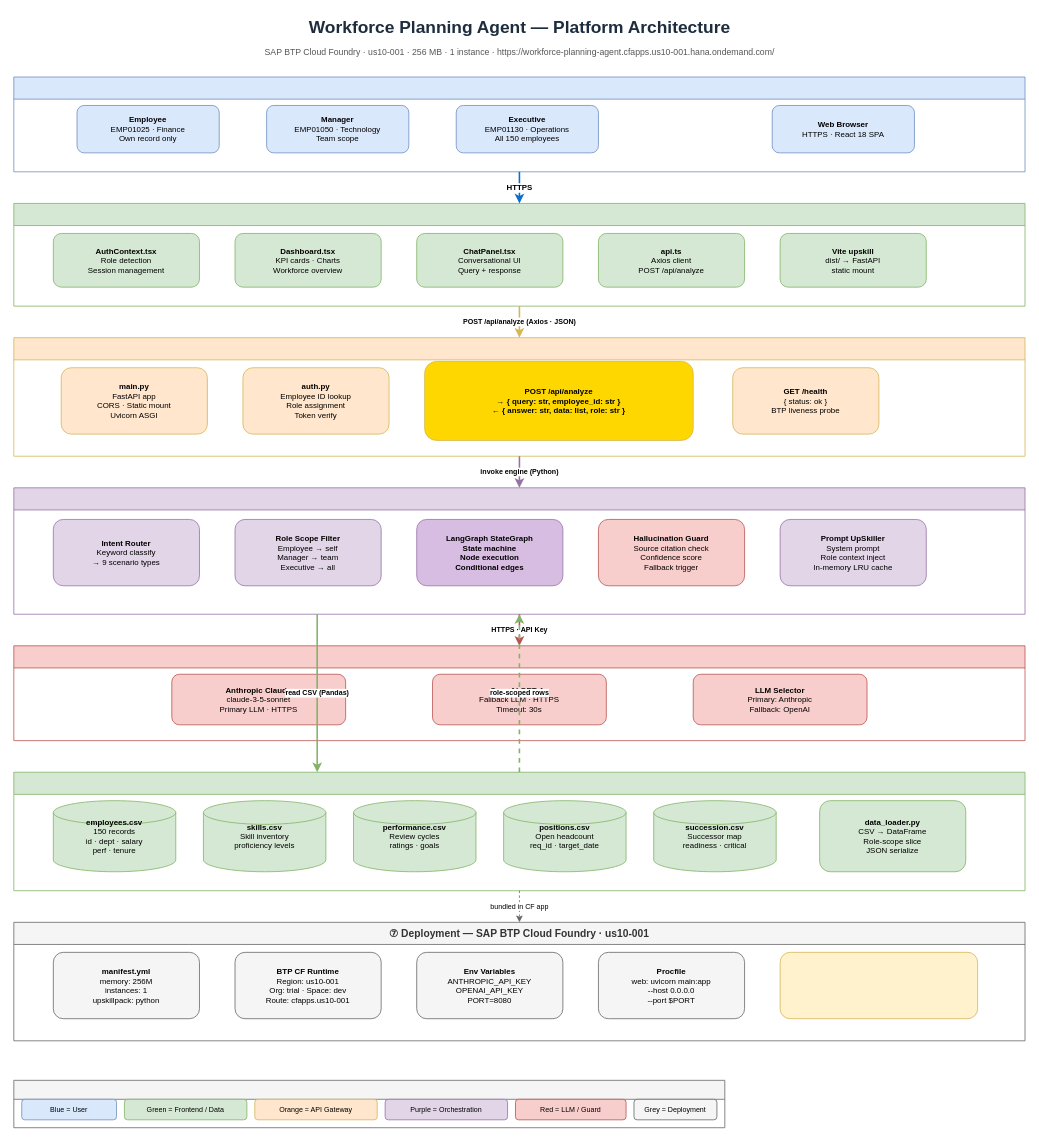
The diagram is 1039 pixels wide and 1142 high, and some of its shapes have lost their labels. The box of each missing label's shape, as (x1, y1, x2, y2) in pixels:
Legend: (13, 1080, 725, 1128)
Live URL https://workforce-planning-agent .cfapps.us10-001.hana.ondemand.com/: (779, 952, 978, 1019)
① User Layer: (13, 76, 1025, 172)
② Frontend — React 18 + Vite + UI5 Web Components: (13, 203, 1025, 306)
③ API Gateway — FastAPI · Uvicorn · Pydantic: (13, 337, 1025, 456)
④ Orchestration Engine — LangGraph StateGraph · engine.py: (13, 487, 1025, 614)
⑤ External LLM APIs: (13, 645, 1025, 741)
⑥ Data Layer — Mock HR Dataset (CSV · Pandas): (13, 771, 1025, 891)
